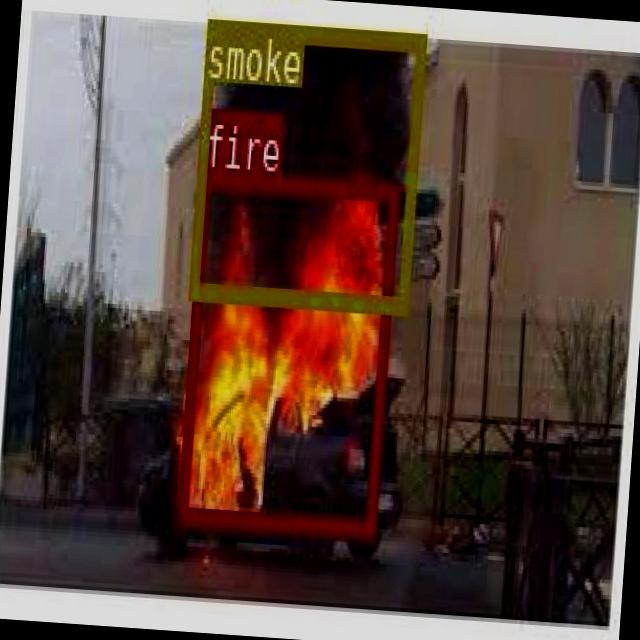fire: (175, 168, 397, 534)
smoke: (188, 18, 424, 308)
